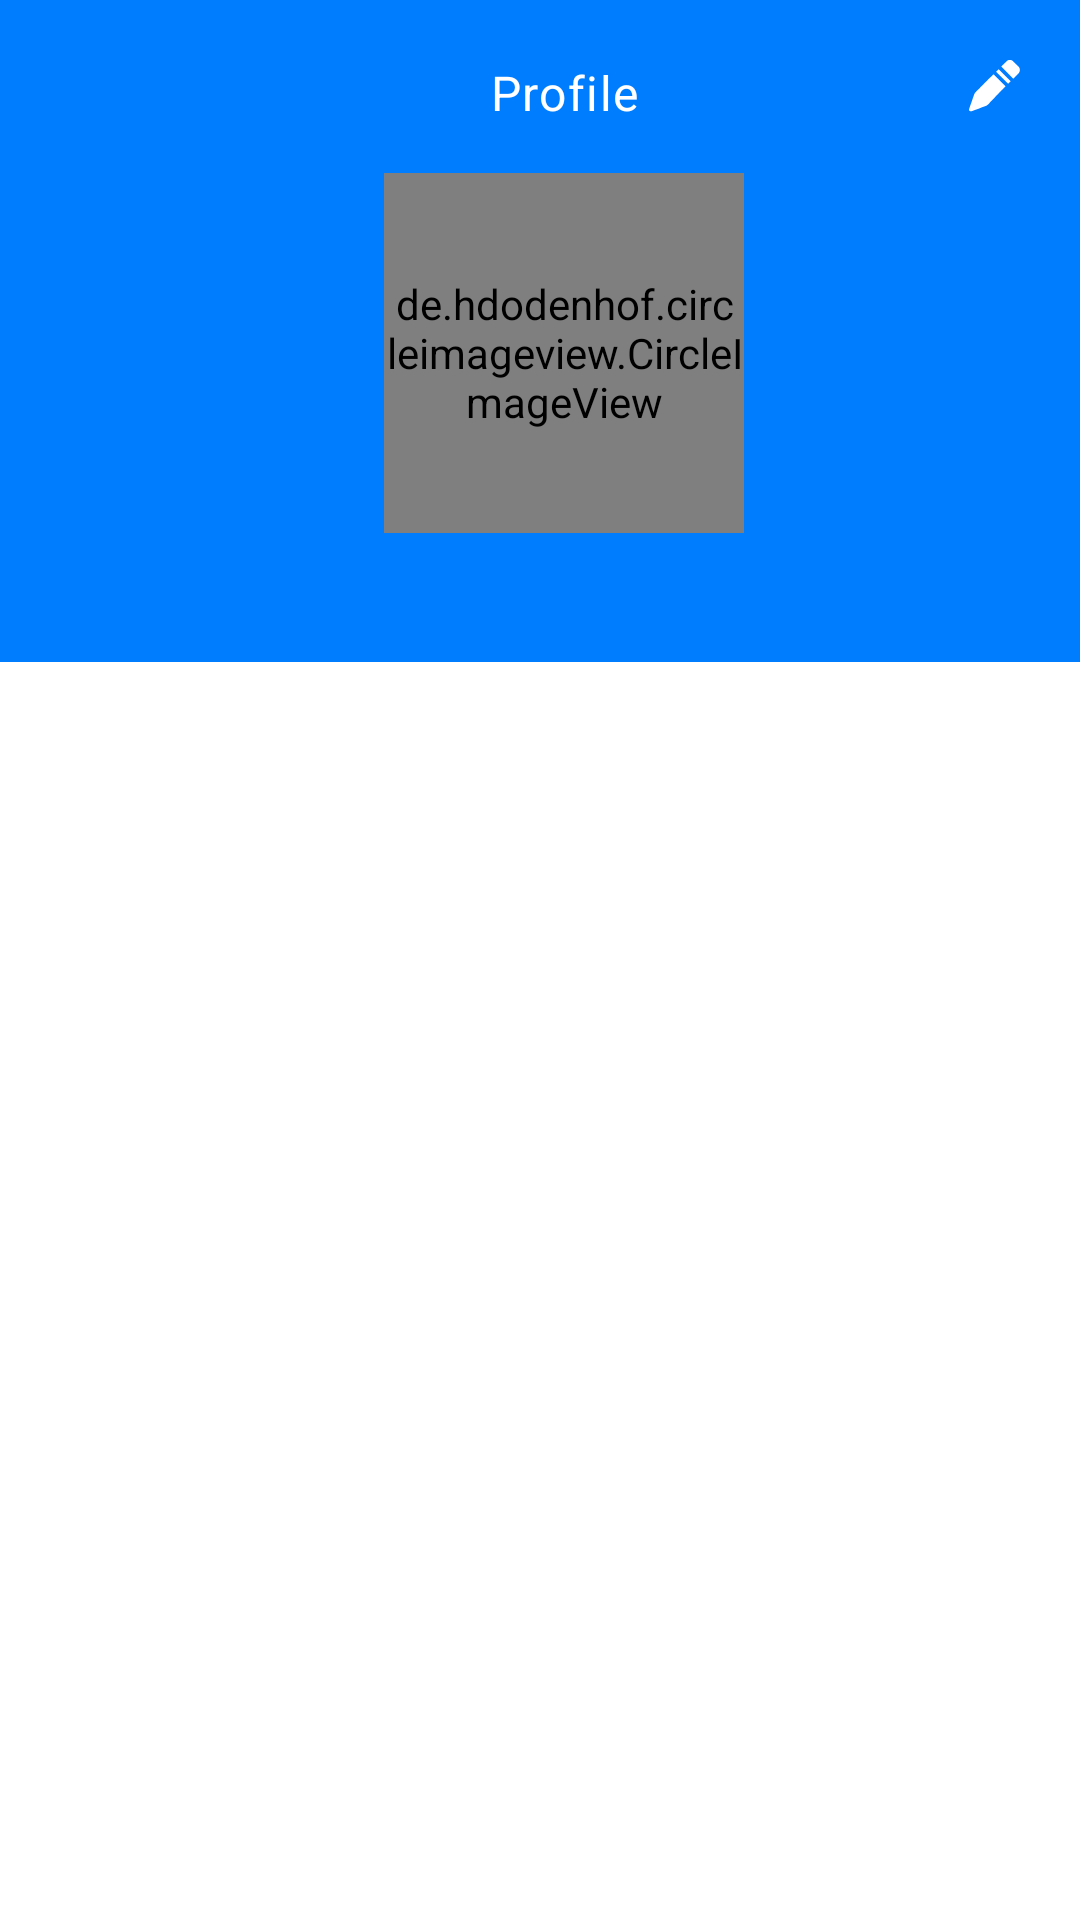

Icon bounding boxes for this 1080 x 1920 phone screenshot, format {"x1": x1, "y1": y1, "x2": x2, "y2": y2}:
edit: {"x1": 969, "y1": 60, "x2": 1020, "y2": 112}
